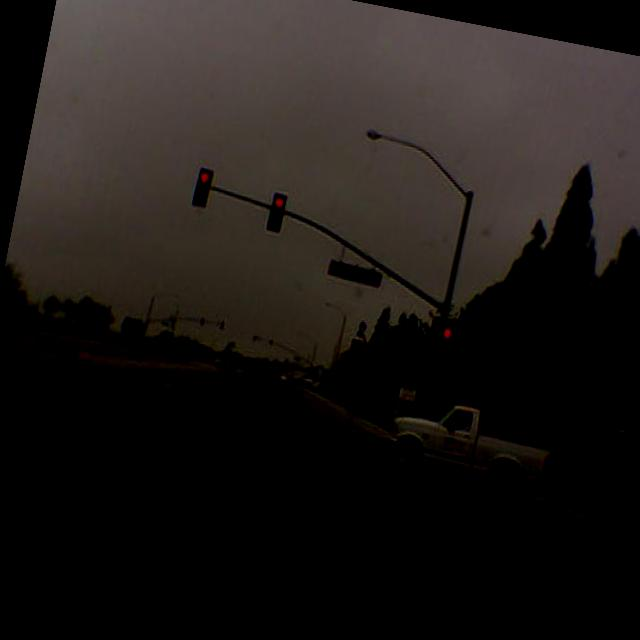Vehicle: (380, 392, 562, 502), (538, 436, 620, 514), (540, 434, 621, 512), (22, 316, 56, 334)
